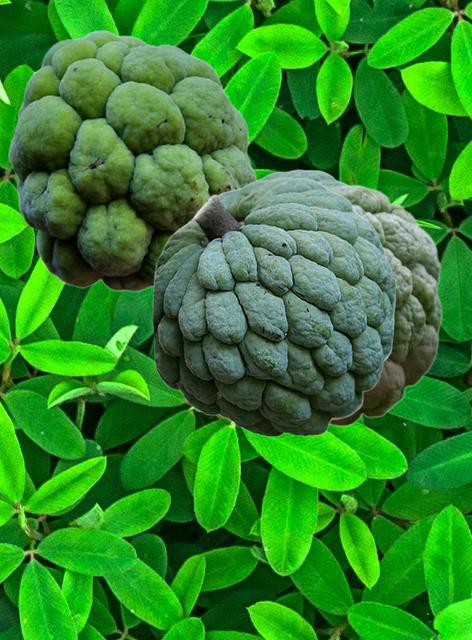atis: (8, 29, 256, 292), (152, 177, 395, 436), (328, 184, 442, 426), (257, 169, 349, 187)
